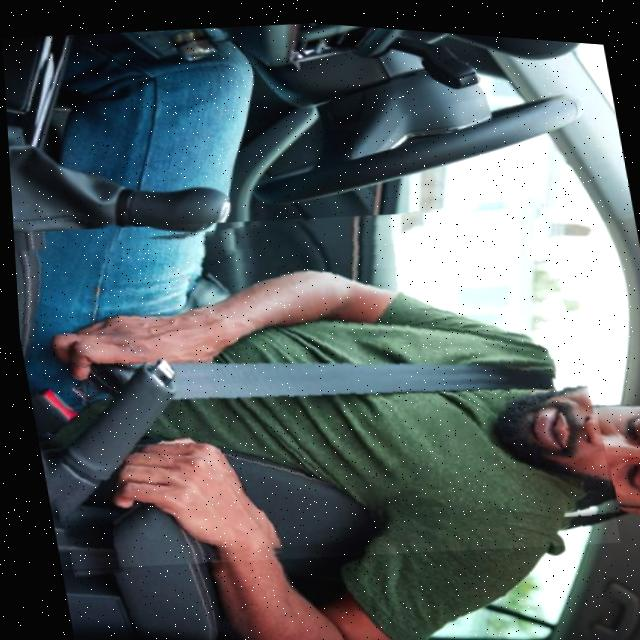seatbelt: (8, 163, 617, 600)
